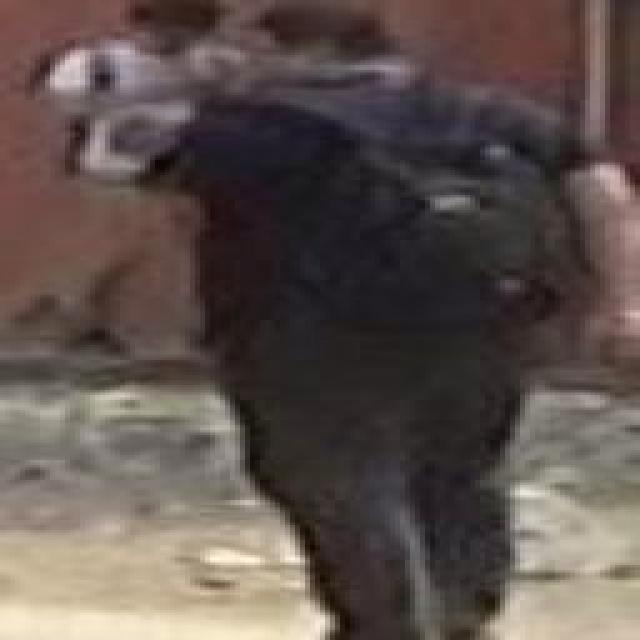adult: (129, 0, 639, 638), (37, 1, 219, 354)
